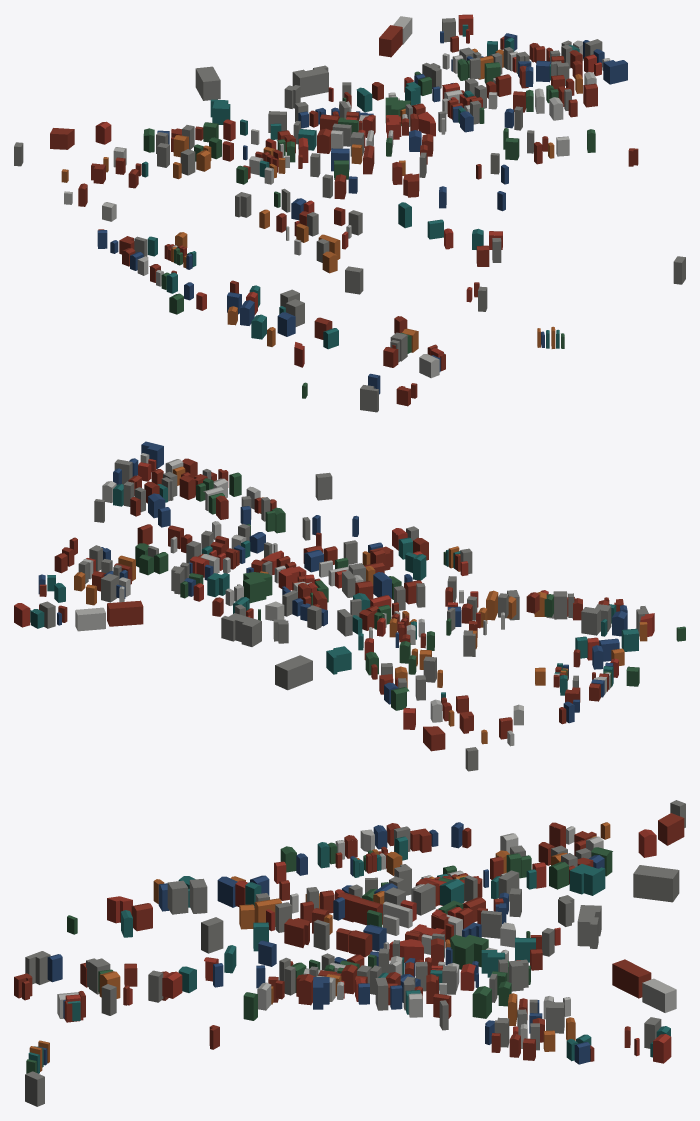
File: near-16-54713-29736.2e84f8cc.glb
The picture shows the model from 3 angles, top to bottom: view 1: azimuth 30°, elevation 25°; view 2: azimuth 150°, elevation 25°; view 3: azimuth 270°, elevation 25°; orthographic projection. The views are drawn at different scales.
Size of the model in its own units: 598 by 214 by 593.
